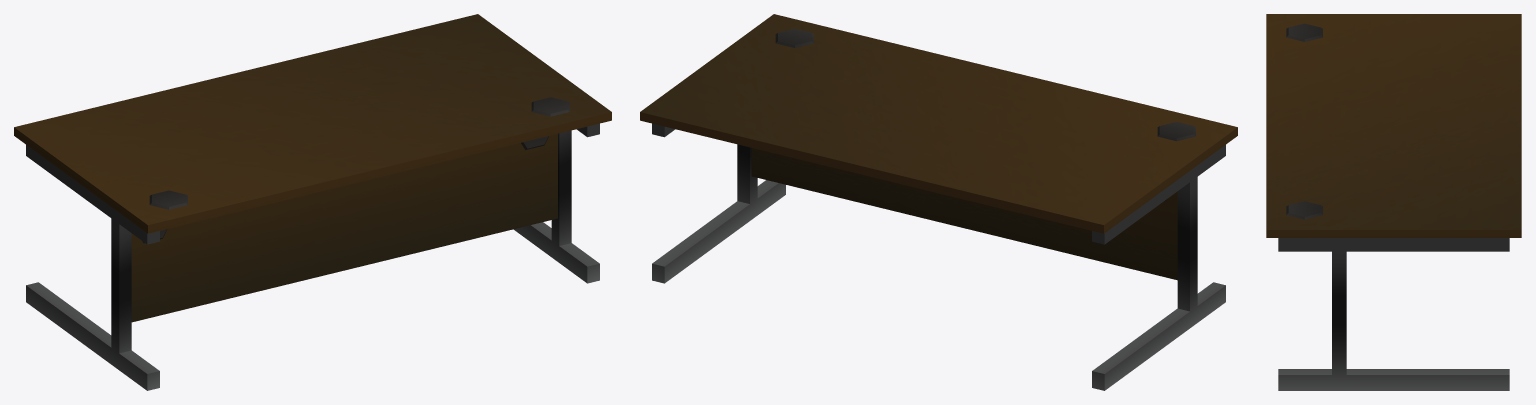
File: Table_OfficeDesk.fbx
3 views of the same model, side by side, from view 1: azimuth 30°, elevation 25°; view 2: azimuth 150°, elevation 25°; view 3: azimuth 270°, elevation 25° (orthographic). The views are drawn at different scales.
Parts seen in each view (by area): view 1: Table_OfficeDesk; view 2: Table_OfficeDesk; view 3: Table_OfficeDesk.
Boxes of the visible parts, x1,y1,x2,y2 form: Table_OfficeDesk: (14, 14, 611, 390); Table_OfficeDesk: (640, 14, 1237, 390); Table_OfficeDesk: (1266, 14, 1521, 390).
Bounding box in the file's own units: 207 × 74.14 × 104.
